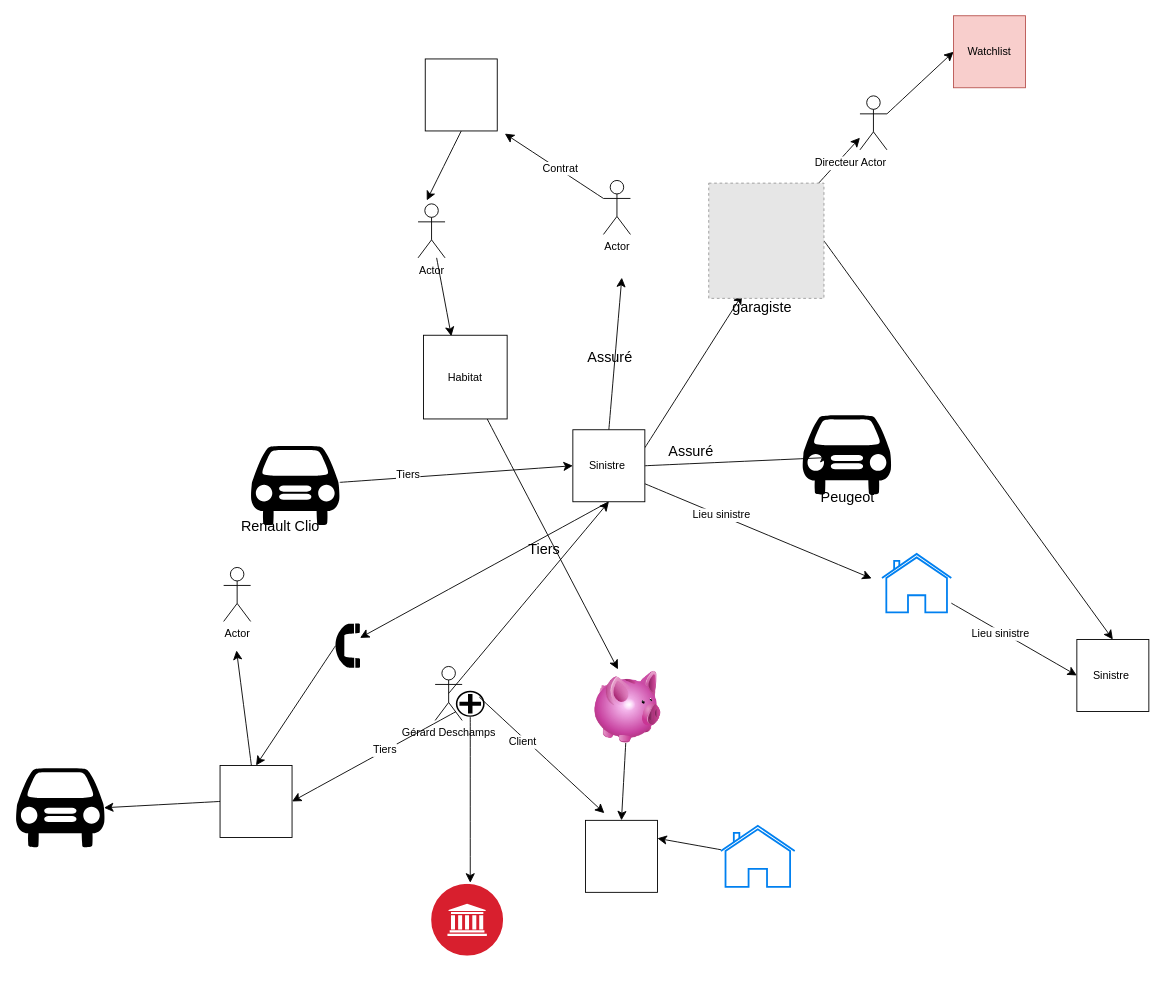
The diagram is 1165 pixels wide and 1007 high, and some of its shapes have lost their labels. Grey dashed boxes stand in for pictures. The box of each missing label's shape, as (x1, y1, x2, y2) in pixels:
Assurance habitat (fermé): (585, 819, 657, 892)
Interdit bancaire: (431, 884, 503, 956)
Sinistre Georges Deschamps (payé): (219, 765, 292, 837)
Véhicule: (424, 58, 497, 131)
